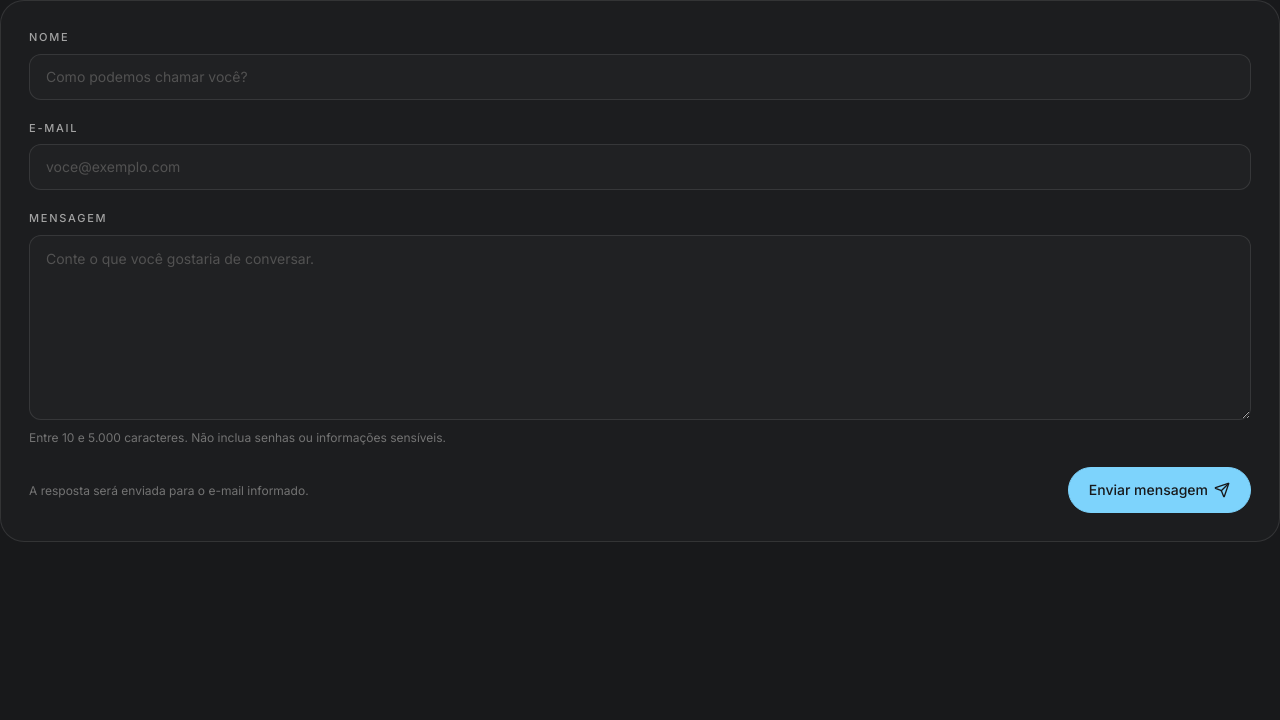
Scenario: ContactForm › valida os três campos antes de consultar a API
The width and height of the screenshot is (1280, 720).
Click the button "Enviar mensagem" at [1159, 490], box left=1068, top=467, right=1251, bottom=513
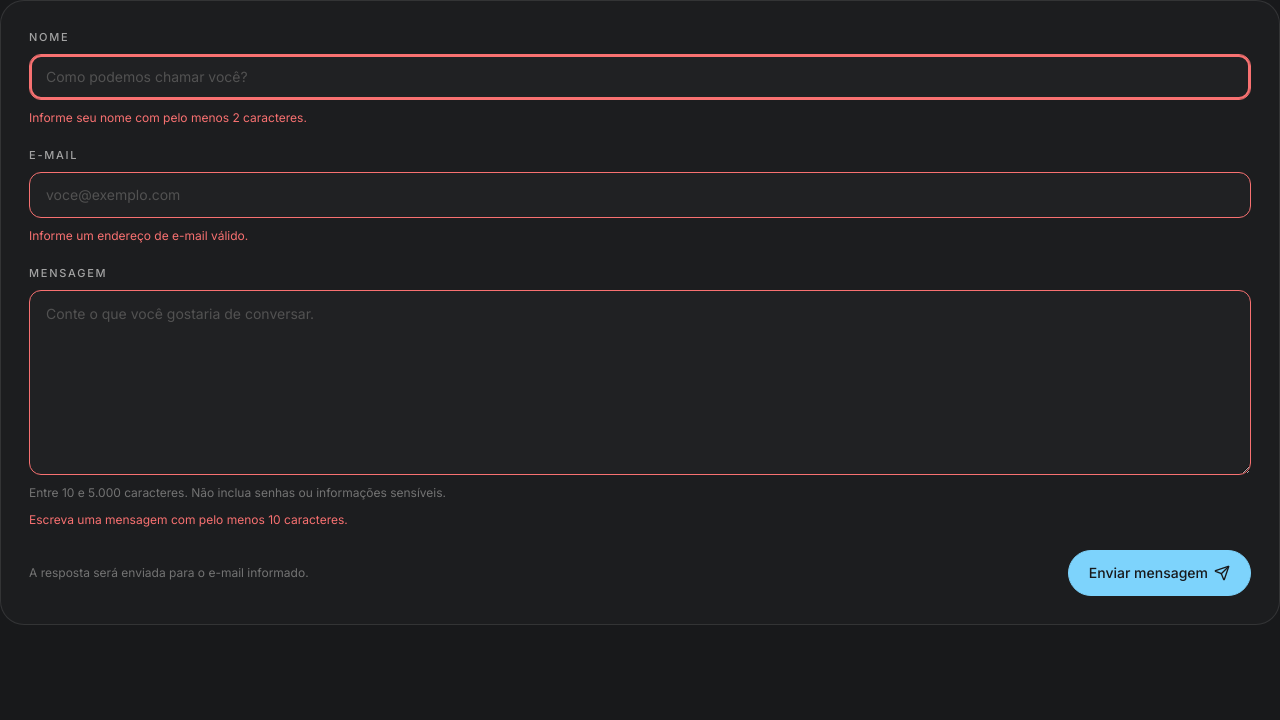
Expected: the text "Informe seu nome com pelo menos 2 caracteres." is shown, left=29, top=110, right=307, bottom=124
Expected: the text "Informe um endereço de e-mail válido." is shown, left=29, top=228, right=248, bottom=242
Expected: the text "Escreva uma mensagem com pelo menos 10 caracteres." is shown, left=29, top=512, right=348, bottom=527
